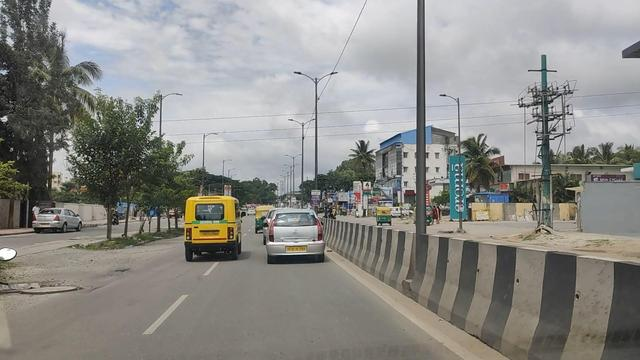LMV: (176, 197, 247, 261), (256, 206, 327, 269)
RoadDamages: (1, 273, 100, 309), (101, 258, 148, 278)
